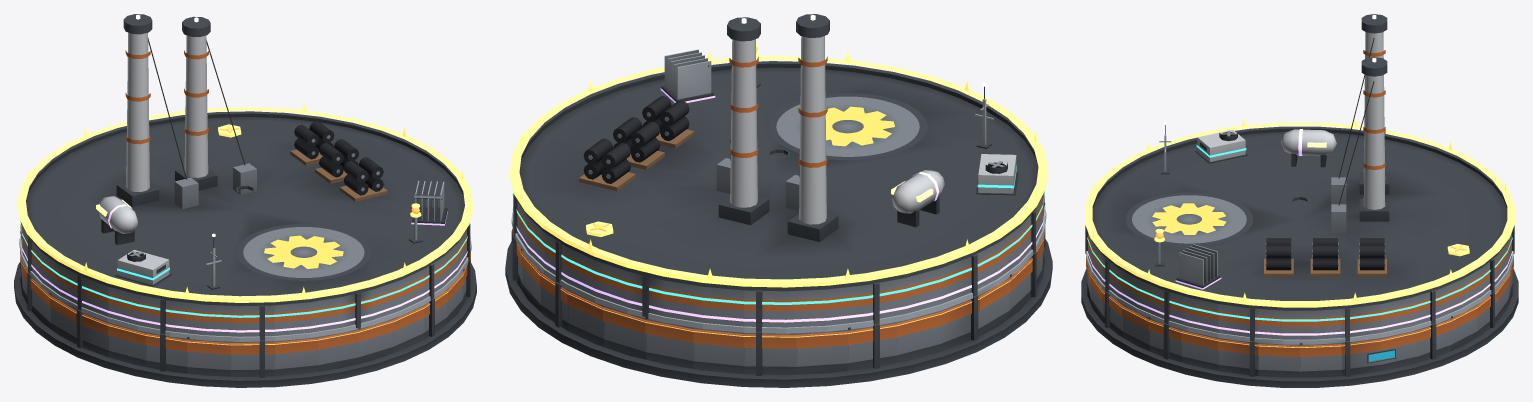
File: carbon_works_m.glb
3 renders of one model, left to right at view 1: azimuth 30°, elevation 25°; view 2: azimuth 150°, elevation 25°; view 3: azimuth 270°, elevation 25°, orthographic. The views are drawn at different scales.
Visible parts, largest first — view 1: Roof, Base, L4, Wall_21, Wall_20, L3, Wall_22, Wall_19, Wall_23, Wall_18, Wall_24, Upper_21 (+24 smaller); view 2: Roof, Base, L4, Wall_10, Wall_11, Wall_09, Wall_12, Wall_08, Wall_13, Wall_07, Upper_10, L3 (+25 smaller); view 3: Roof, Base, L4, Wall_00, Wall_31, Wall_30, L3, Wall_29, Wall_01, Upper_00, Upper_31, Wall_02 (+22 smaller).
Part boxes in pixels (bbox=[...]): Roof: bbox=[22, 14, 467, 306]; Base: bbox=[14, 262, 476, 387]; L4: bbox=[96, 180, 447, 245]; Wall_21: bbox=[230, 340, 274, 377]; Wall_20: bbox=[187, 337, 230, 376]; L3: bbox=[115, 185, 254, 286]; Wall_22: bbox=[274, 337, 317, 376]; Wall_19: bbox=[145, 332, 187, 373]; Wall_23: bbox=[317, 329, 358, 371]; Wall_18: bbox=[108, 322, 145, 366]; Wall_24: bbox=[357, 318, 394, 363]; Upper_21: bbox=[231, 305, 274, 340]; Roof: bbox=[516, 14, 1038, 291]; Base: bbox=[505, 239, 1052, 387]; L4: bbox=[660, 49, 944, 227]; Wall_10: bbox=[744, 331, 796, 375]; Wall_11: bbox=[796, 329, 847, 374]; Wall_09: bbox=[693, 327, 744, 373]; Wall_12: bbox=[847, 322, 896, 370]; Wall_08: bbox=[645, 317, 693, 368]; Wall_13: bbox=[896, 311, 941, 363]; Wall_07: bbox=[603, 306, 646, 359]; Upper_10: bbox=[744, 290, 796, 331]; L3: bbox=[768, 148, 1018, 195]; Roof: bbox=[1091, 14, 1508, 310]; Base: bbox=[1081, 269, 1518, 387]; L4: bbox=[1175, 129, 1336, 289]; Wall_00: bbox=[1300, 343, 1341, 377]; Wall_31: bbox=[1258, 343, 1299, 377]; Wall_30: bbox=[1218, 338, 1258, 376]; L3: bbox=[1195, 130, 1308, 203]; Wall_29: bbox=[1181, 329, 1218, 370]; Wall_01: bbox=[1341, 338, 1381, 376]; Upper_00: bbox=[1300, 309, 1341, 339]; Upper_31: bbox=[1258, 309, 1299, 339]; Wall_02: bbox=[1381, 329, 1418, 370].
Size of the model in its own units: 14.75 by 9.29 by 14.75.
